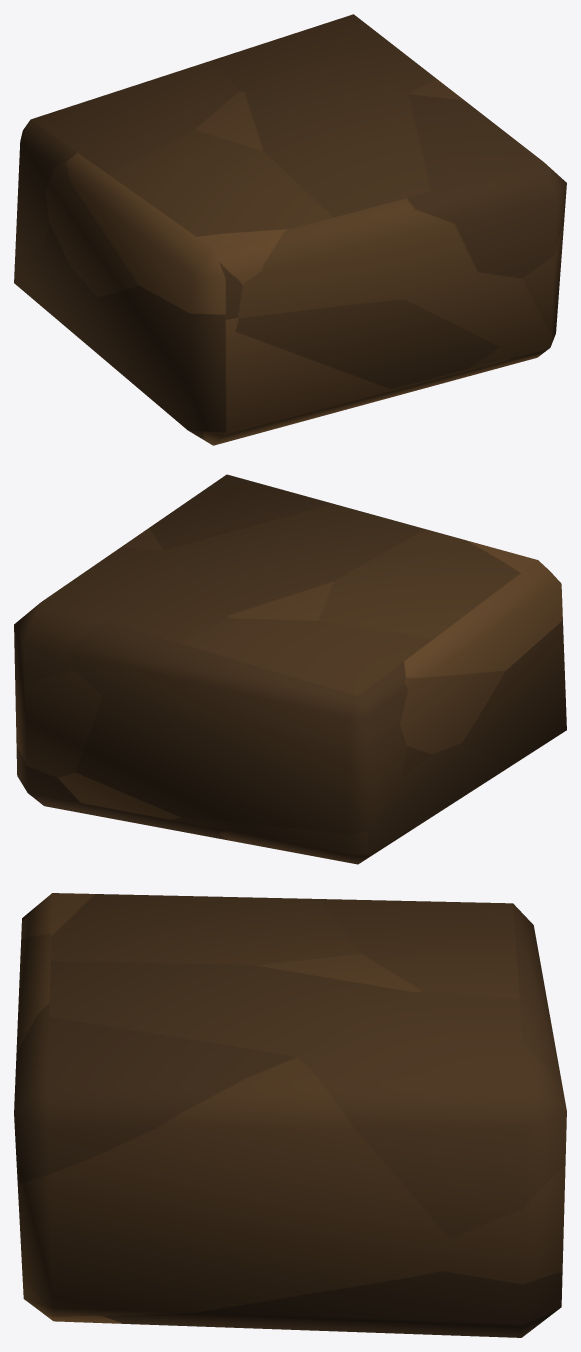
File: Turba1.fbx
3 views of the same model, one above another, from view 1: azimuth 30°, elevation 25°; view 2: azimuth 150°, elevation 25°; view 3: azimuth 270°, elevation 25° (orthographic). The views are drawn at different scales.
Parts seen in each view (by area): view 1: Turba; view 2: Turba; view 3: Turba.
Part boxes in pixels (bbox=[...]): Turba: bbox=[14, 14, 566, 445]; Turba: bbox=[14, 474, 566, 864]; Turba: bbox=[14, 893, 566, 1337].
Bounding box in the file's own units: 95.67 × 50.55 × 95.63.
Materials: 1 (1 with a texture image).
